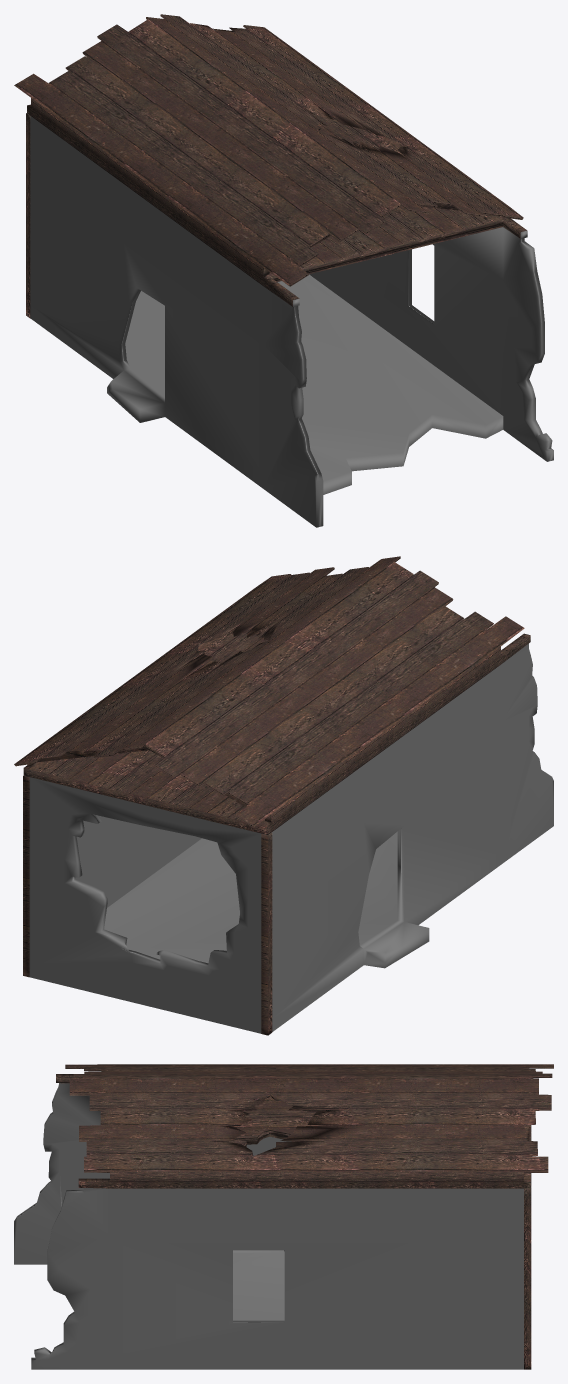
The model's file is Ruin10_lod01.fbx.
The picture shows the model from 3 angles, top to bottom: view 1: azimuth 30°, elevation 25°; view 2: azimuth 150°, elevation 25°; view 3: azimuth 270°, elevation 25°; orthographic projection. The views are drawn at different scales.
Parts seen in each view (by area): view 1: Default_Layer; view 2: Default_Layer; view 3: Default_Layer.
Part boxes in pixels (x1=…): Default_Layer: x1=14, y1=14, x2=553, y2=527; Default_Layer: x1=14, y1=556, x2=553, y2=1035; Default_Layer: x1=14, y1=1064, x2=553, y2=1369.
Bounding box in the file's own units: 662 × 616 × 1272.
